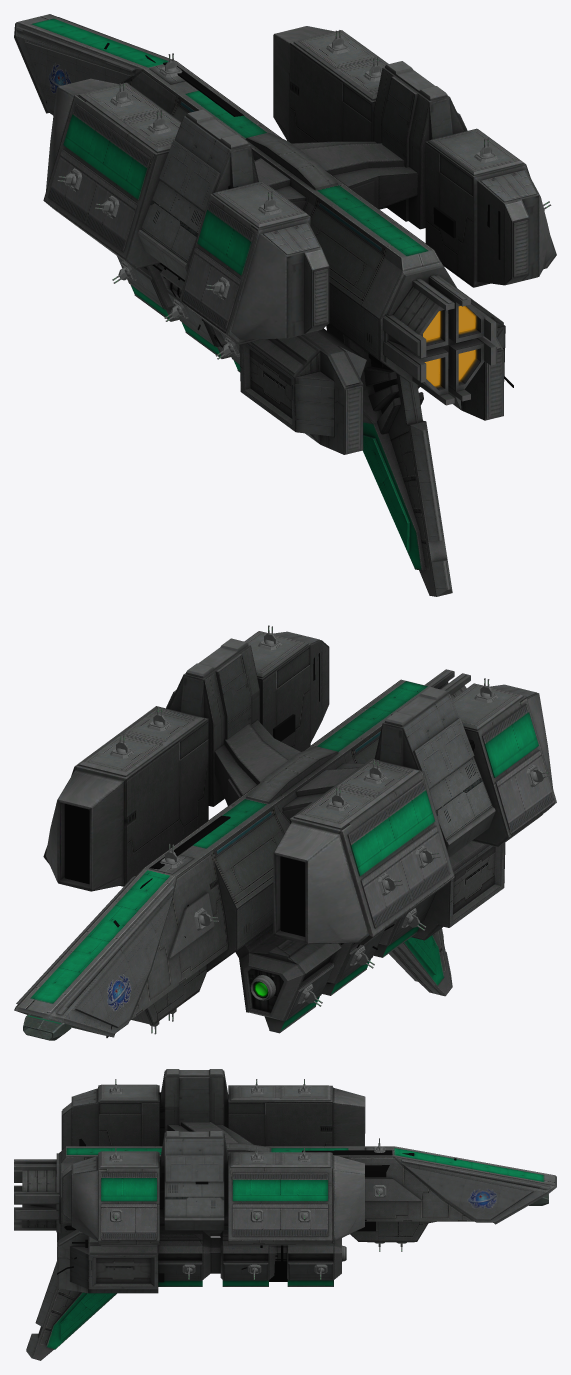
Rendered from cruiser_x02.glb.
3 renders of one model, top to bottom at view 1: azimuth 30°, elevation 25°; view 2: azimuth 150°, elevation 25°; view 3: azimuth 270°, elevation 25°, orthographic. The views are drawn at different scales.
Parts seen in each view (by area): view 1: detail0, turretplats; view 2: detail0, turretplats, turret05, turret04, turret01, debris_17, turret02; view 3: detail0, turretplats, debris_17, debris_8.
Boxes of the visible parts, x1=… form: detail0: x1=14, y1=14, x2=556, y2=596; turretplats: x1=68, y1=43, x2=498, y2=356; detail0: x1=14, y1=631, x2=556, y2=1037; turretplats: x1=110, y1=639, x2=539, y2=1003; turret05: x1=64, y1=803, x2=89, y2=884; turret04: x1=280, y1=856, x2=305, y2=936; turret01: x1=23, y1=1014, x2=71, y2=1040; debris_17: x1=149, y1=815, x2=230, y2=869; turret02: x1=250, y1=975, x2=275, y2=1000; detail0: x1=14, y1=1069, x2=556, y2=1360; turretplats: x1=109, y1=1087, x2=406, y2=1273; debris_17: x1=302, y1=1150, x2=392, y2=1231; debris_8: x1=241, y1=1245, x2=287, y2=1281.
Size of the model in its own units: 1.49 by 1.66 by 3.2.
Materials: 5 (3 with a texture image).
